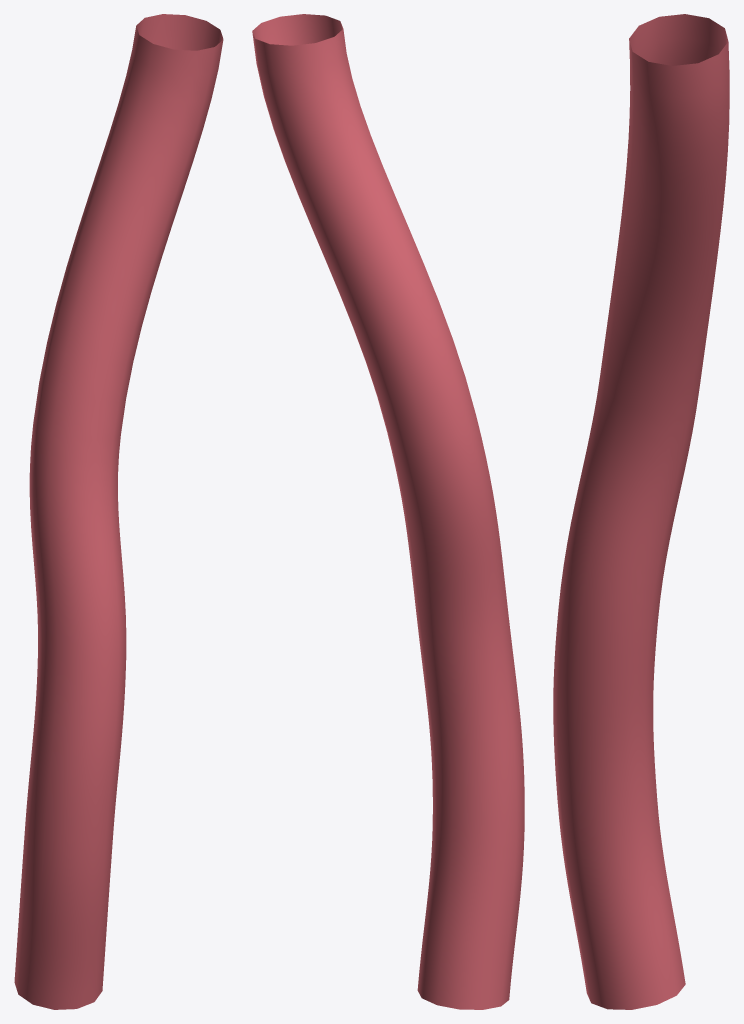
The picture shows the model from 3 angles, left to right: view 1: azimuth 30°, elevation 25°; view 2: azimuth 150°, elevation 25°; view 3: azimuth 270°, elevation 25°; orthographic projection. The views are drawn at different scales.
Visible parts, largest first — view 1: ZA_fb939154a41782c4; view 2: ZA_fb939154a41782c4; view 3: ZA_fb939154a41782c4.
Part boxes in pixels (x1,y1,x2,y2): ZA_fb939154a41782c4: (14,14,223,1009); ZA_fb939154a41782c4: (252,14,524,1009); ZA_fb939154a41782c4: (553,14,729,1009).
Size of the model in its own units: 0.0228 by 0.0914 by 0.0141.
